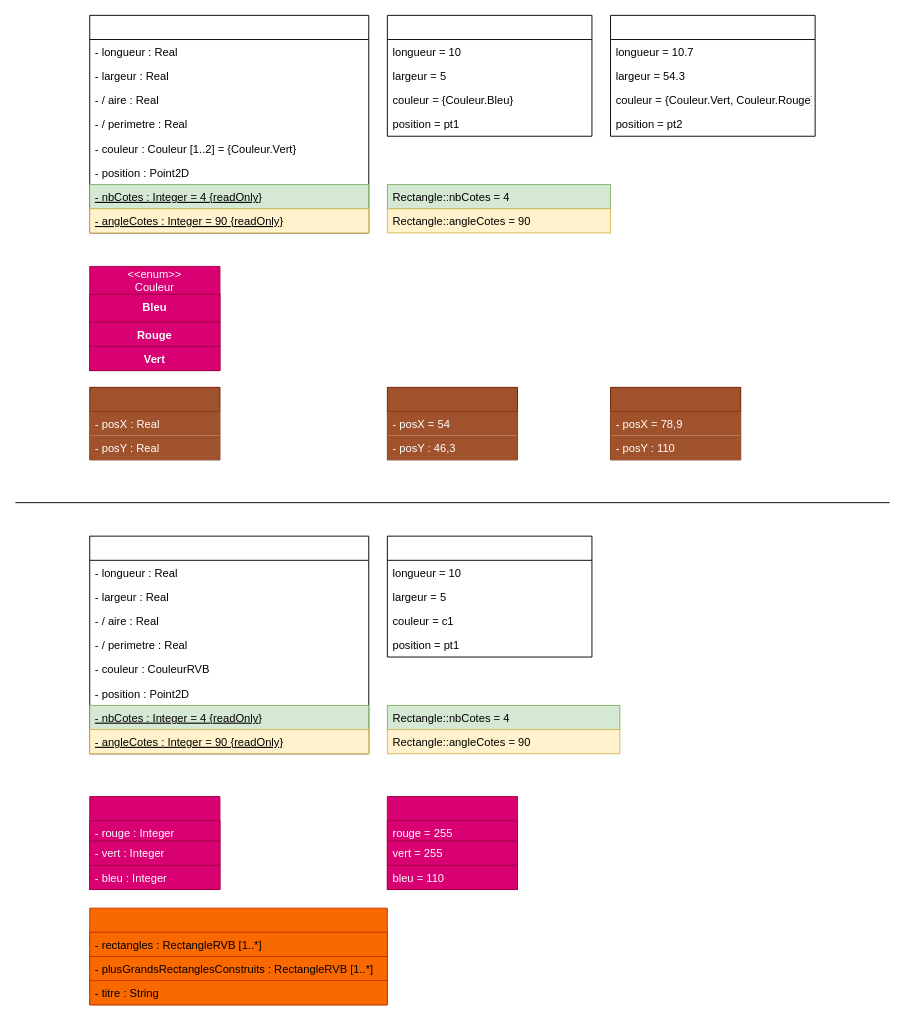
Some shapes in this 905 by 1020 pixel diagram are drawn without their labels. The box of each missing label's shape, as (x1, y1, x2, y2) in pixels:
c1:CouleurRVB: (386, 796, 518, 890)
Canvas: (89, 907, 387, 1005)
CouleurRVB: (89, 796, 220, 890)
Point2D: (89, 386, 220, 460)
pt1:Point2D: (386, 386, 518, 460)
pt2:Point2D: (610, 386, 741, 460)
r1:Rectangle: (386, 14, 592, 136)
r2:Rectangle: (610, 14, 815, 136)
Rectangle: (89, 14, 369, 233)
RectangleRVB: (89, 535, 369, 754)
rRVB1:RectangleRVB: (386, 535, 592, 657)
